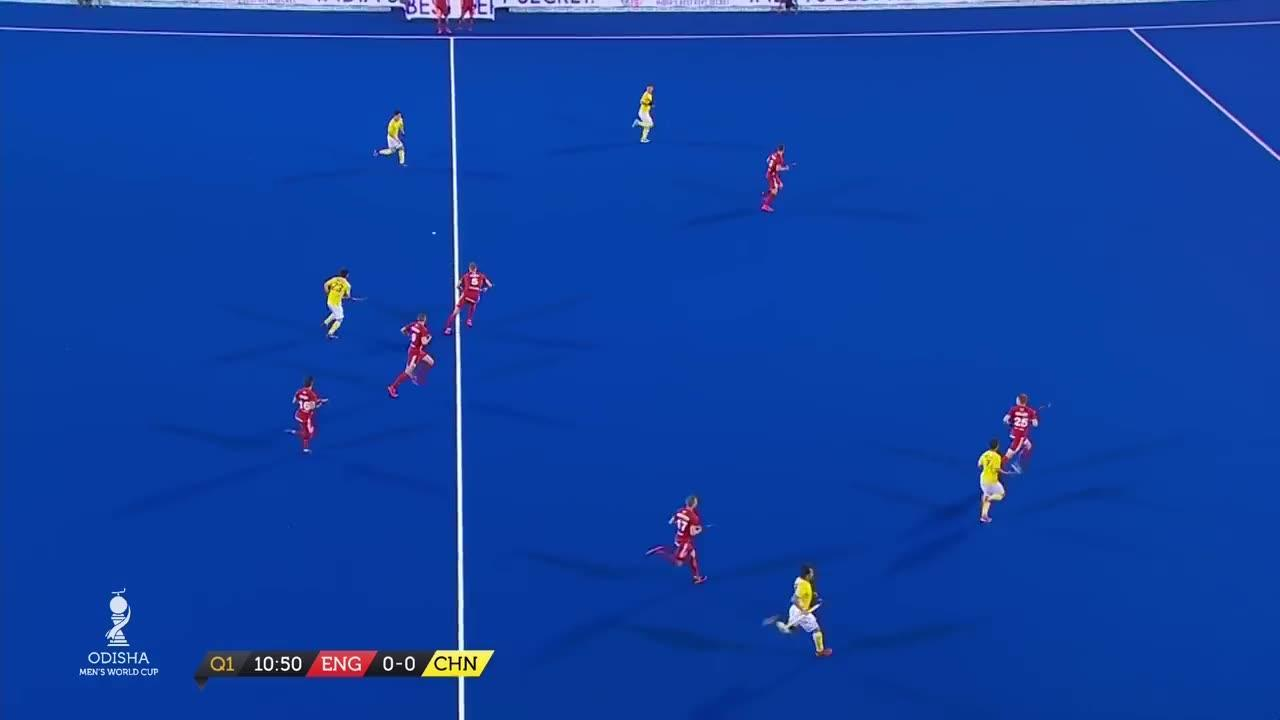ball: (431, 231, 439, 236)
